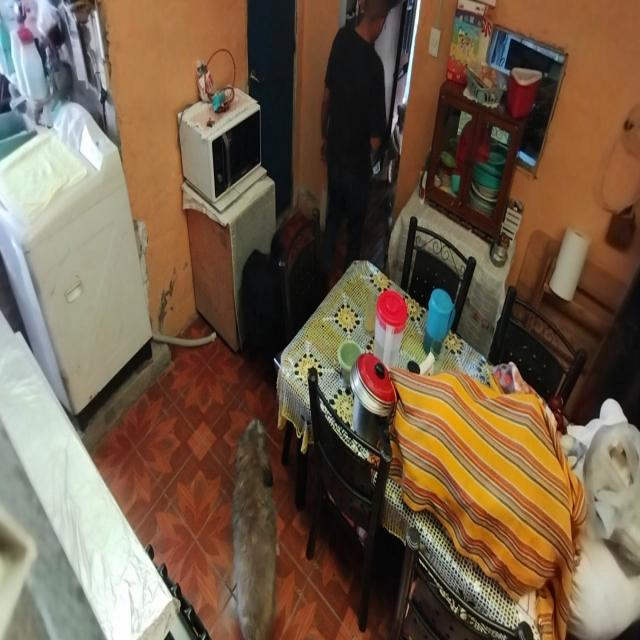adult: (317, 0, 396, 297)
